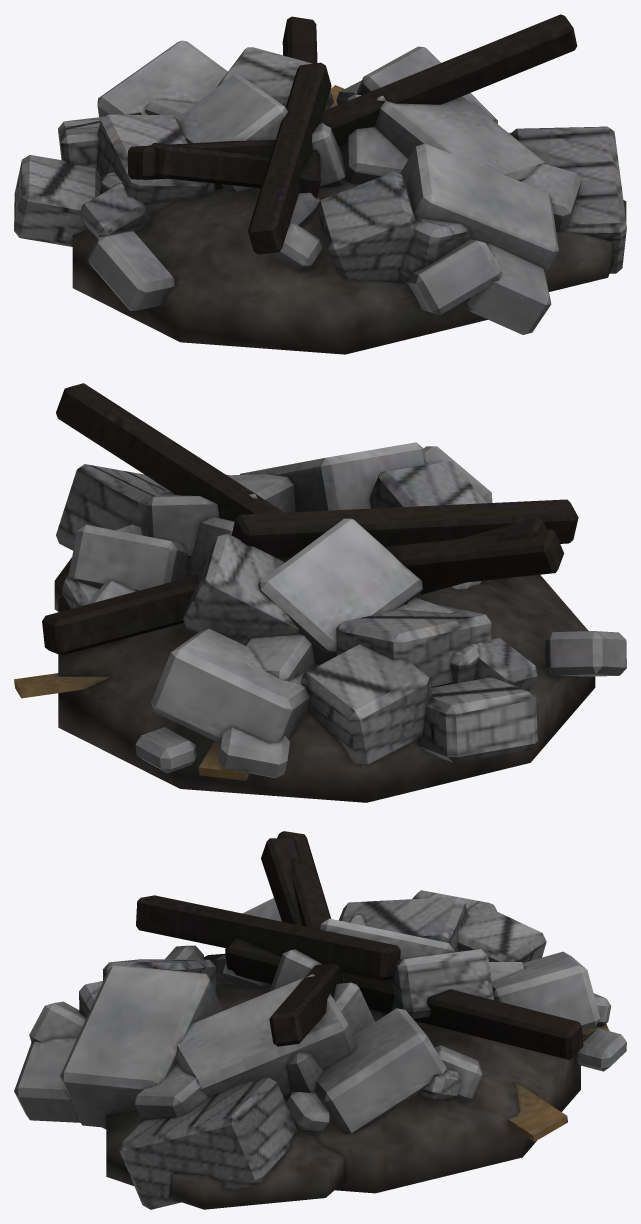
Rendered from truemmer.glb.
3 renders of one model, top to bottom at view 1: azimuth 30°, elevation 25°; view 2: azimuth 150°, elevation 25°; view 3: azimuth 270°, elevation 25°, orthographic. The views are drawn at different scales.
Visible parts, largest first — view 1: truemmer; view 2: truemmer; view 3: truemmer.
Boxes of the visible parts, x1,y1,x2,y2 form: truemmer: [14, 14, 626, 354]; truemmer: [14, 383, 626, 802]; truemmer: [14, 831, 626, 1209].
Size of the model in its own units: 2.17 by 0.986 by 2.23.
1 material, 1 textured.
